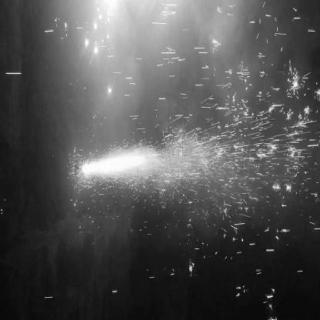Fire: (79, 137, 175, 184)
